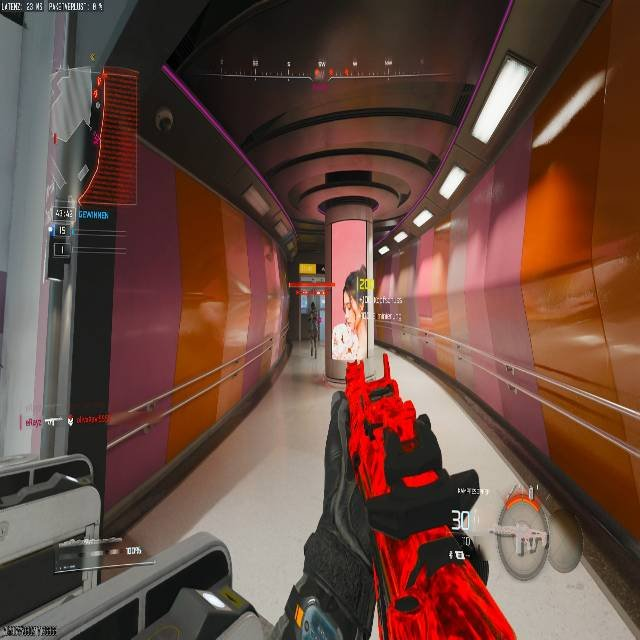head: (310, 302, 316, 310)
player: (305, 302, 321, 355)
